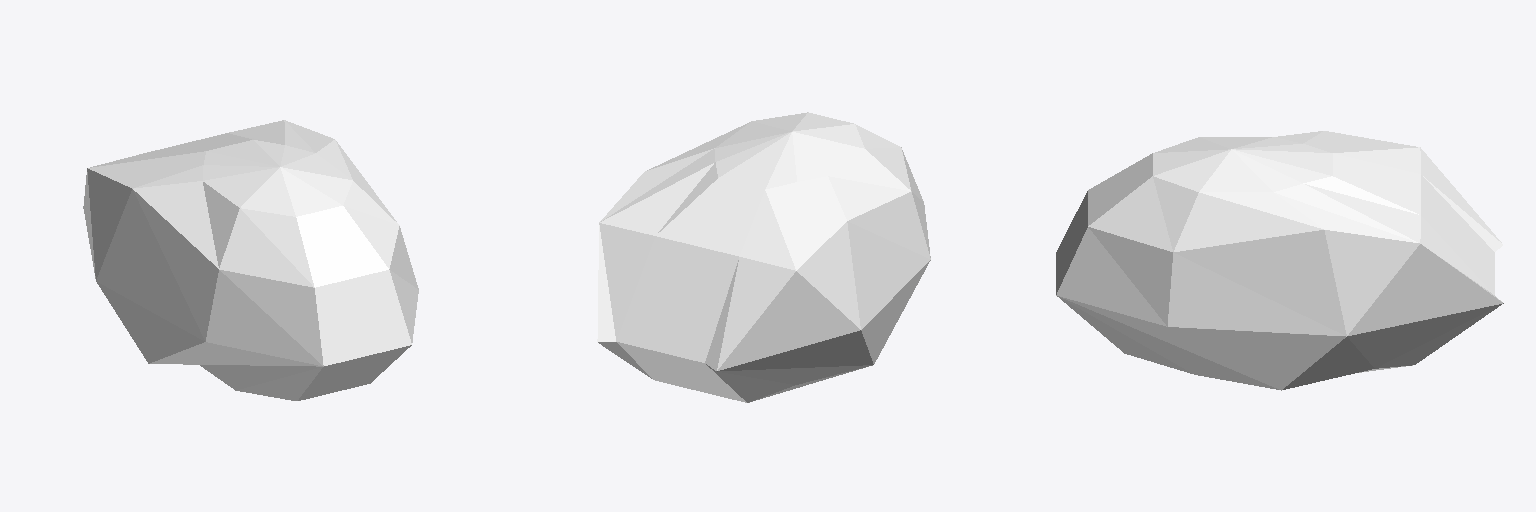
The model's file is utl94.obj.
The picture shows the model from 3 angles: view 1: azimuth 30°, elevation 25°; view 2: azimuth 150°, elevation 25°; view 3: azimuth 270°, elevation 25°; orthographic projection.
Parts seen in each view (by area): view 1: frm-sphere1; view 2: frm-sphere1; view 3: frm-sphere1.
Boxes of the visible parts, x1=… form: frm-sphere1: x1=83, y1=120, x2=418, y2=400; frm-sphere1: x1=597, y1=112, x2=930, y2=402; frm-sphere1: x1=1056, y1=131, x2=1503, y2=390.
Bounding box in the file's own units: 0.7545 × 0.6075 × 1.16.